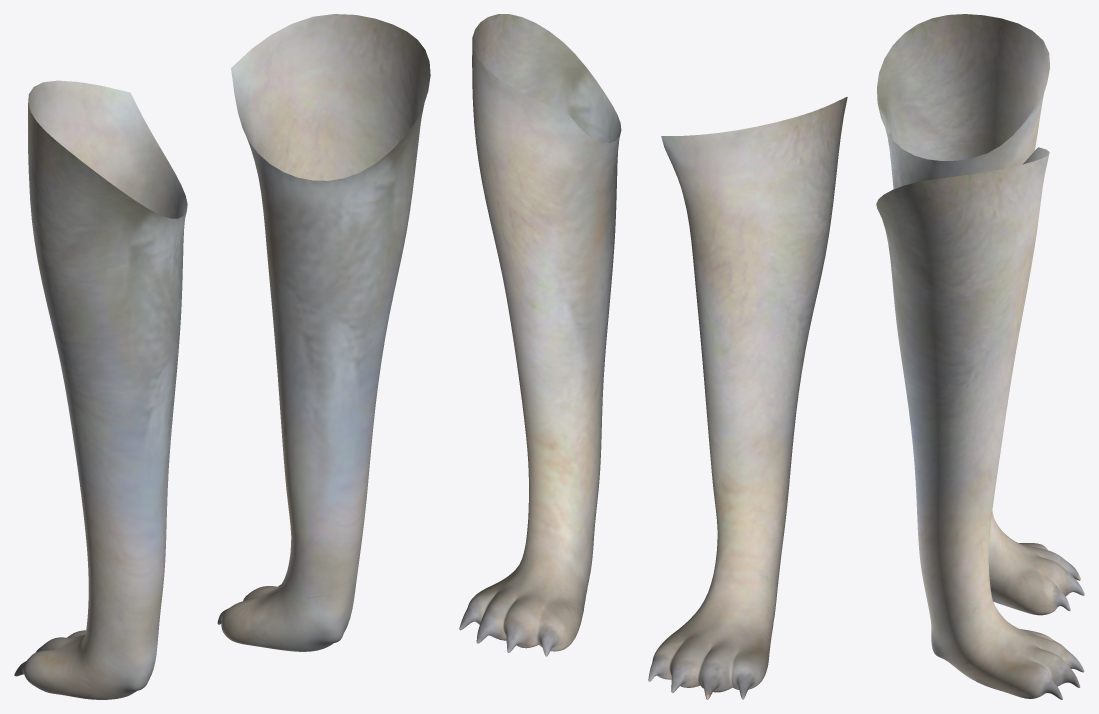
The model's file is PatasDerechas.obj.
3 renders of one model, left to right at view 1: azimuth 30°, elevation 25°; view 2: azimuth 150°, elevation 25°; view 3: azimuth 270°, elevation 25°, orthographic. The views are drawn at different scales.
Visible parts, largest first — view 1: Canaan_Dog; view 2: Canaan_Dog; view 3: Canaan_Dog.
Boxes of the visible parts, x1=… form: Canaan_Dog: x1=14, y1=14, x2=430, y2=699; Canaan_Dog: x1=459, y1=14, x2=847, y2=699; Canaan_Dog: x1=876, y1=14, x2=1084, y2=699.
Size of the model in its own units: 9.37 by 14.69 by 5.08.
Materials: 1 (1 with a texture image).
